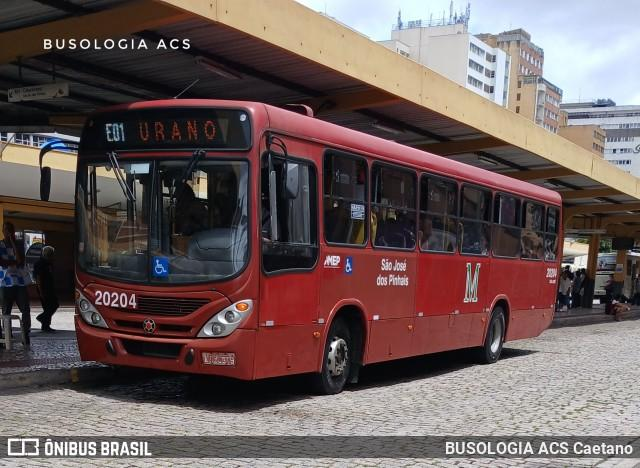URANO: (129, 115, 227, 148)
